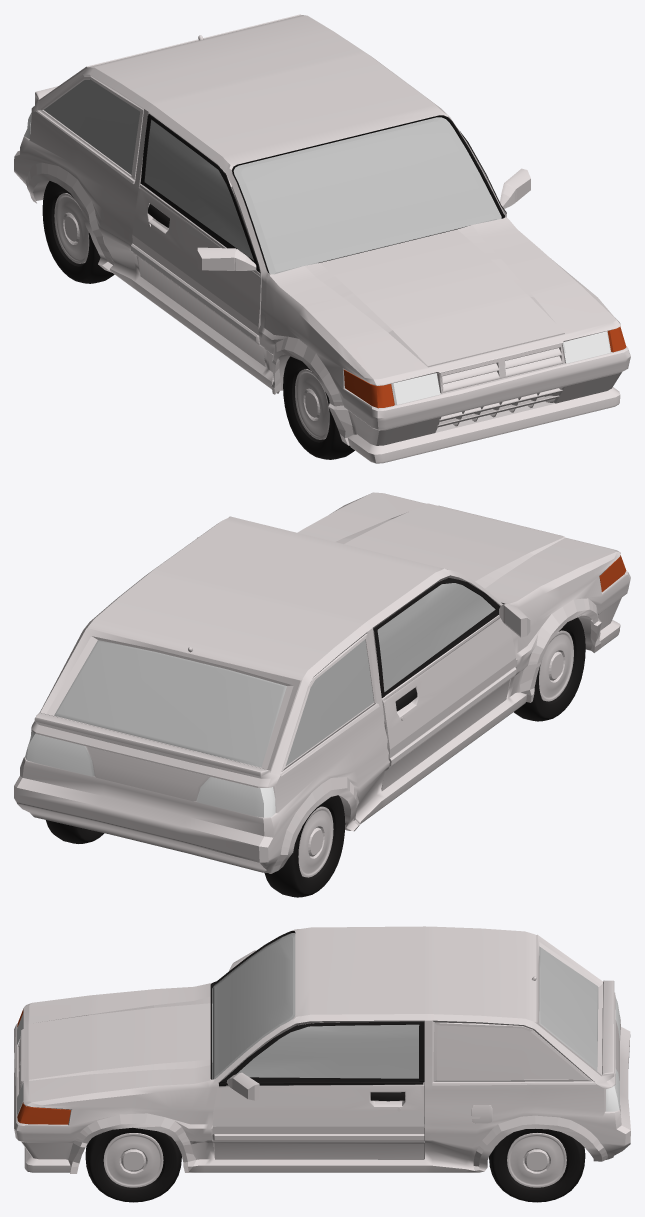
The model's file is car2.fbx.
3 views of the same model, one above another, from view 1: azimuth 30°, elevation 25°; view 2: azimuth 150°, elevation 25°; view 3: azimuth 270°, elevation 25° (orthographic). The views are drawn at different scales.
Visible parts, largest first — view 1: pasted__pCube42; view 2: pasted__pCube42; view 3: pasted__pCube42.
Part boxes in pixels (<box>): pasted__pCube42: <box>14,14,630,463</box>; pasted__pCube42: <box>14,492,630,897</box>; pasted__pCube42: <box>14,926,630,1202</box>.
Size of the model in its own units: 49.46 by 31.59 by 95.51.
1 material, 1 textured.
